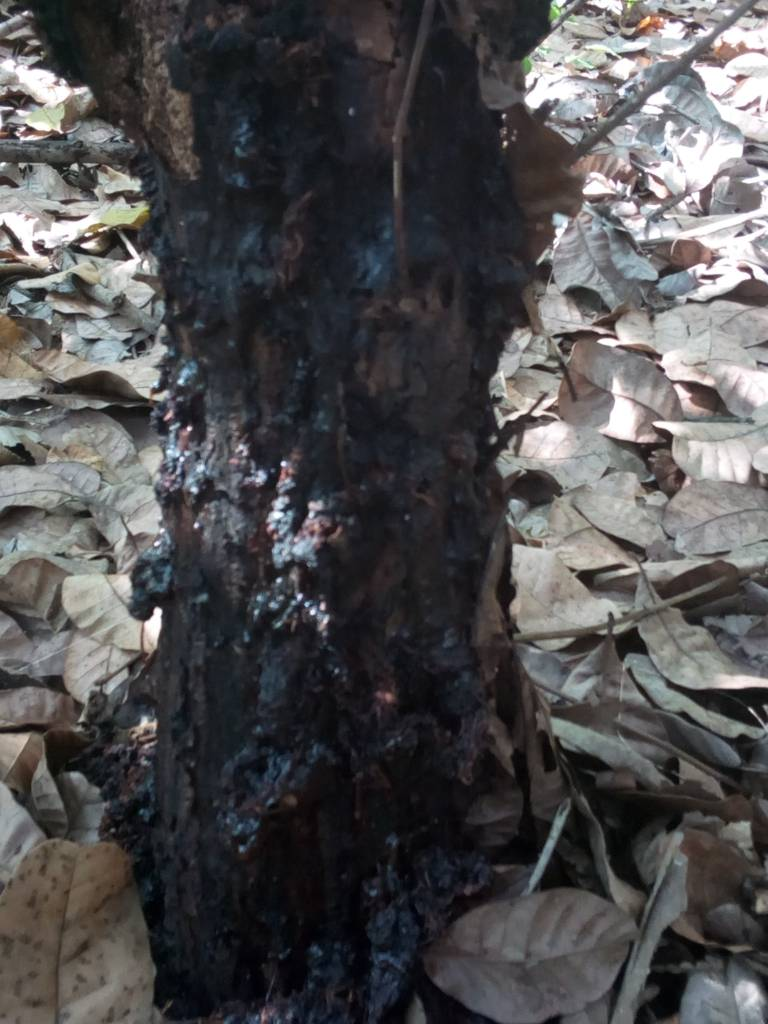Gommose: (157, 11, 499, 1017)
